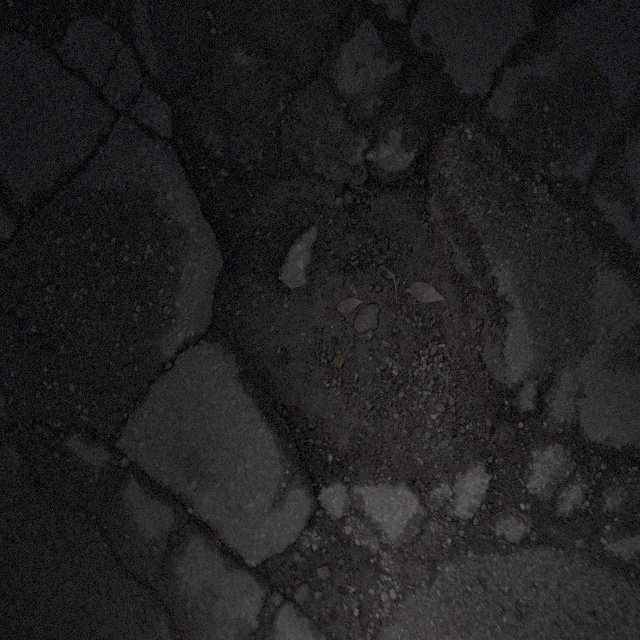pothole: (191, 134, 548, 541)
